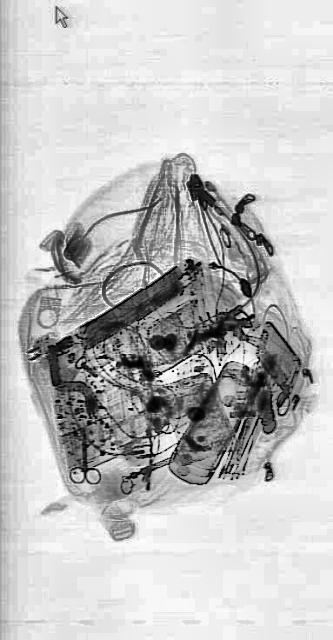Scissors: (68, 429, 100, 485)
